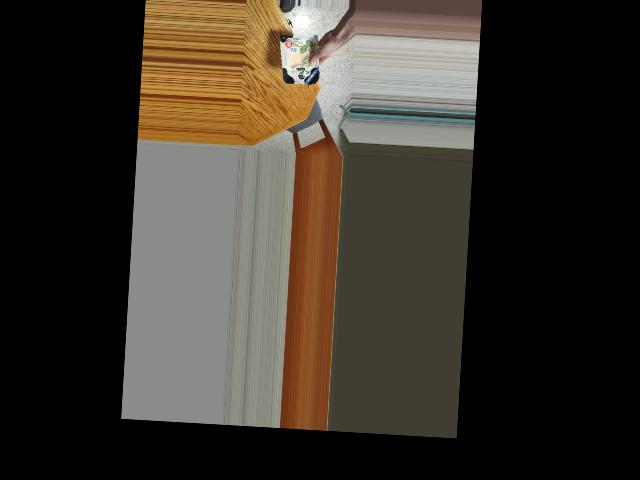cheese: (283, 24, 325, 92)
